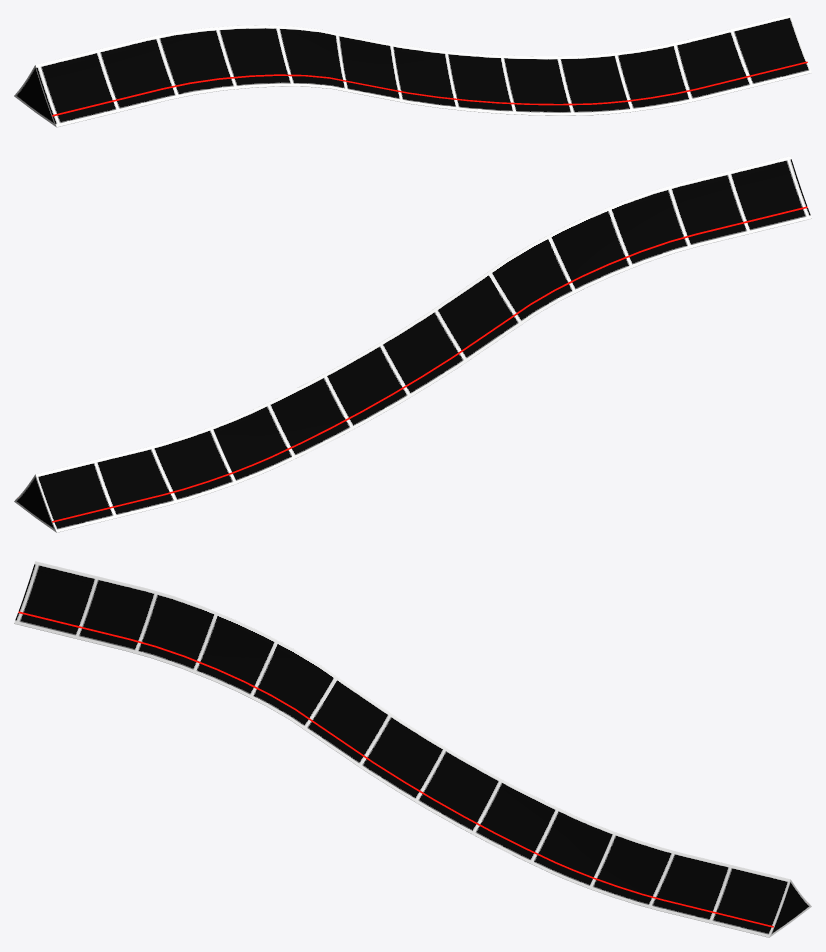
The model's file is Platform-3-experiment.fbx.
3 renders of one model, top to bottom at view 1: azimuth 30°, elevation 25°; view 2: azimuth 210°, elevation 25°; view 3: azimuth 330°, elevation 25°, orthographic.
Parts seen in each view (by area): view 1: ramp.005; view 2: ramp.005; view 3: ramp.005.
Part boxes in pixels (box(x1,y1,x2,y2)): ramp.005: box(14, 14, 811, 127); ramp.005: box(14, 156, 811, 532); ramp.005: box(14, 561, 811, 937).
Bounding box in the file's own units: 3733 × 838 × 366.
